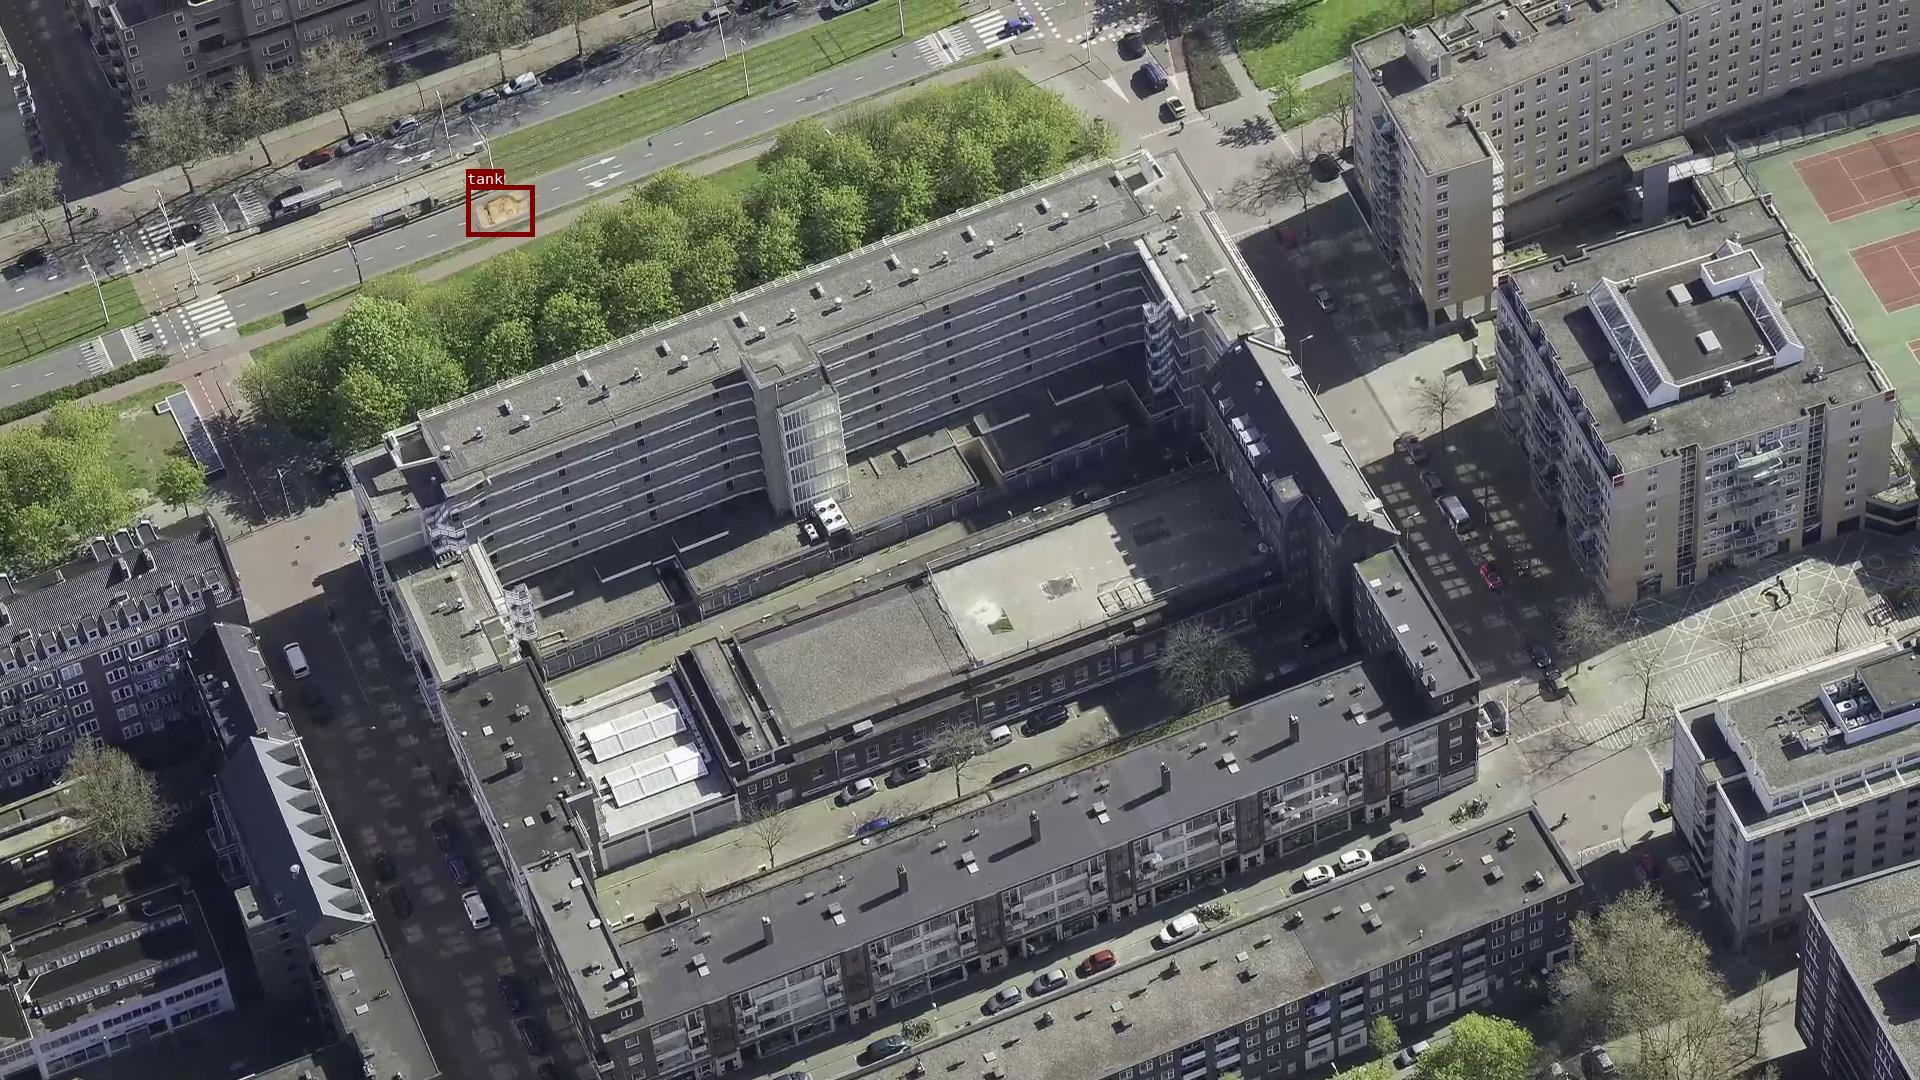tank: (465, 185, 534, 236)
